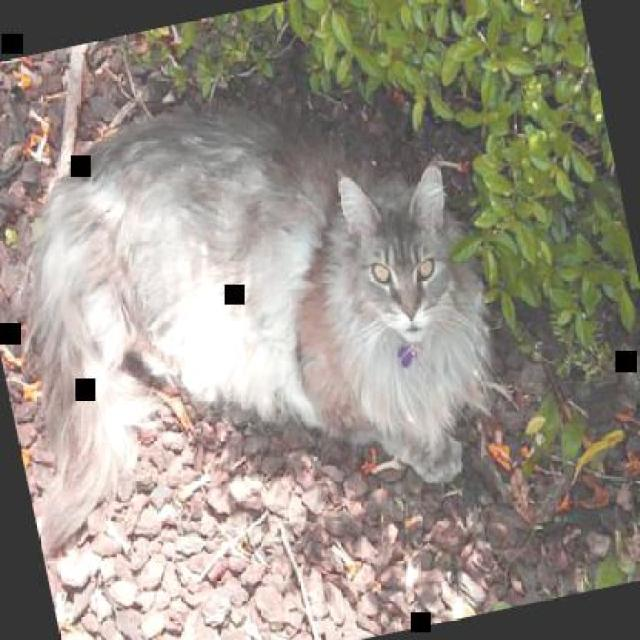cat: (0, 60, 518, 567)
